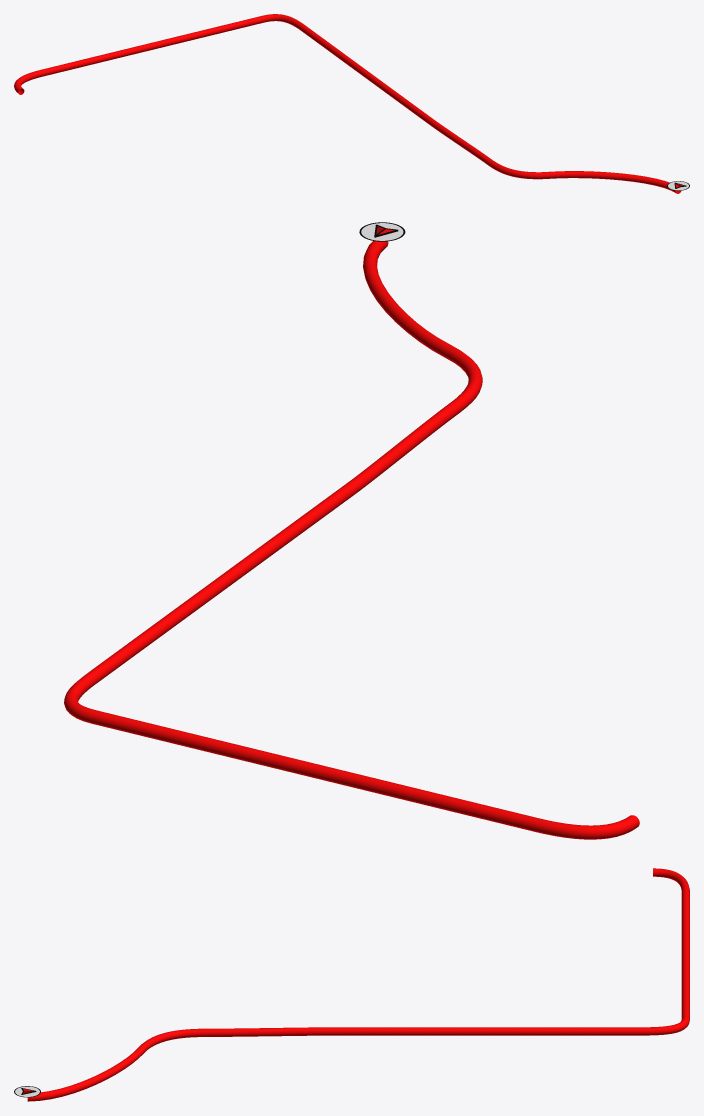
Rendered from route_0eef49eb-5279-4199-8a29-0096020b5d52_de_single.glb.
The picture shows the model from 3 angles, top to bottom: view 1: azimuth 30°, elevation 25°; view 2: azimuth 150°, elevation 25°; view 3: azimuth 270°, elevation 25°; orthographic projection. The views are drawn at different scales.
Visible parts, largest first — view 1: A5, Abteil 1; view 2: A5, Abteil 1; view 3: A5, Abteil 1.
Part boxes in pixels (<box>): A5, Abteil 1: <box>14,14,681,193</box>; A5, Abteil 1: <box>64,241,639,839</box>; A5, Abteil 1: <box>27,868,689,1101</box>.
Size of the model in its own units: 5.27 by 0.1062 by 6.48.
